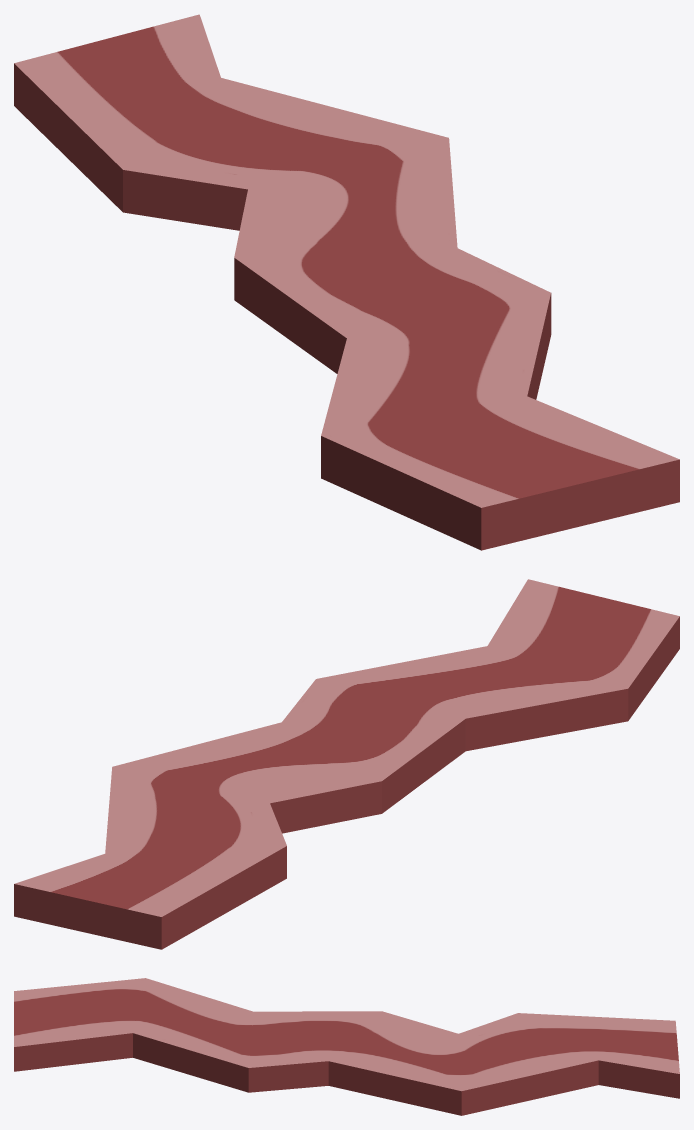
Rendered from Bacon.FBX.
3 views of the same model, one above another, from view 1: azimuth 30°, elevation 25°; view 2: azimuth 150°, elevation 25°; view 3: azimuth 270°, elevation 25° (orthographic). The views are drawn at different scales.
Parts seen in each view (by area): view 1: Bacon; view 2: Bacon; view 3: Bacon.
Part boxes in pixels (x1,y1,x2,y2): Bacon: (14,14,679,550); Bacon: (14,579,679,949); Bacon: (14,978,679,1115).
Bounding box in the file's own units: 22.44 × 2.28 × 55.81.
